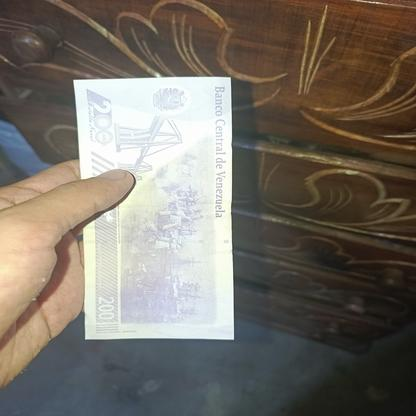two_hundred-back-vef: (73, 76, 235, 340)
